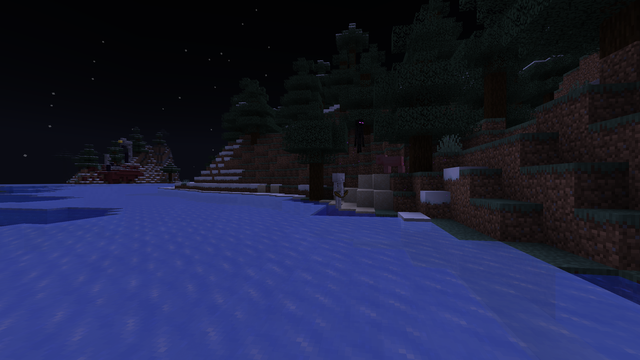cochons: (384, 155, 402, 172)
endermens: (355, 118, 362, 152)
squelettes: (332, 173, 343, 209)
